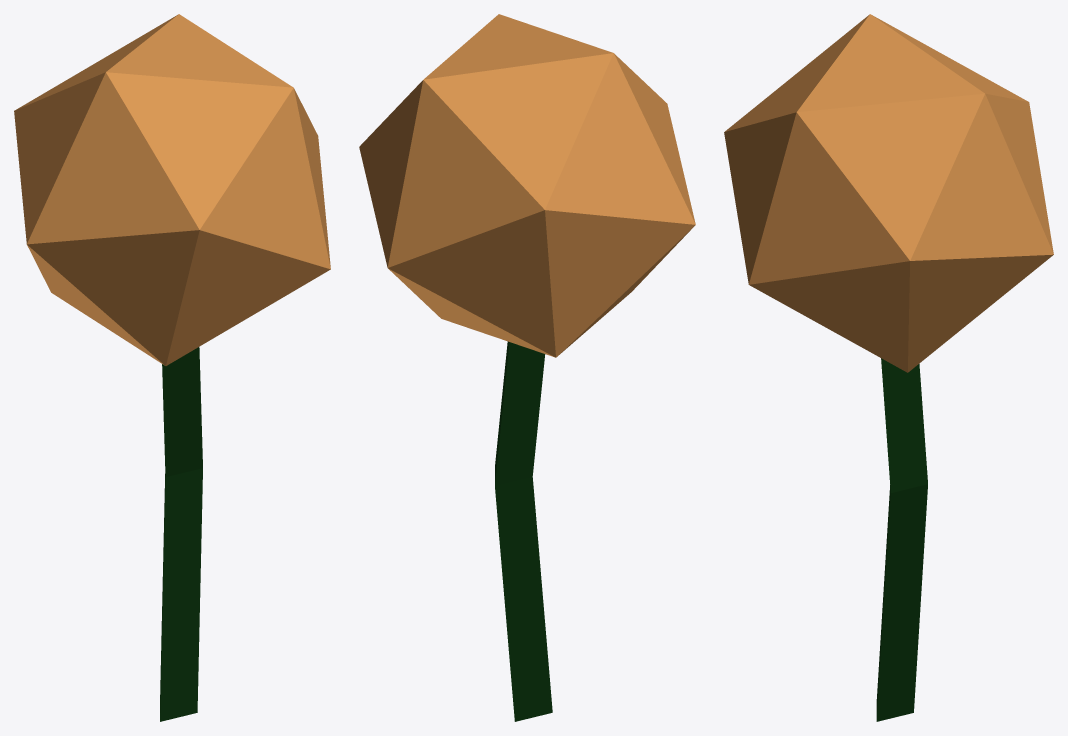
File: dandi.obj
3 views of the same model, side by side, from view 1: azimuth 30°, elevation 25°; view 2: azimuth 150°, elevation 25°; view 3: azimuth 270°, elevation 25° (orthographic).
Parts seen in each view (by area): view 1: dandi; view 2: dandi; view 3: dandi.
Boxes of the visible parts, x1=… form: dandi: x1=14, y1=14, x2=330, y2=721; dandi: x1=359, y1=14, x2=695, y2=721; dandi: x1=724, y1=14, x2=1053, y2=721.
Bounding box in the file's own units: 0.0656 × 0.1335 × 0.0603.
